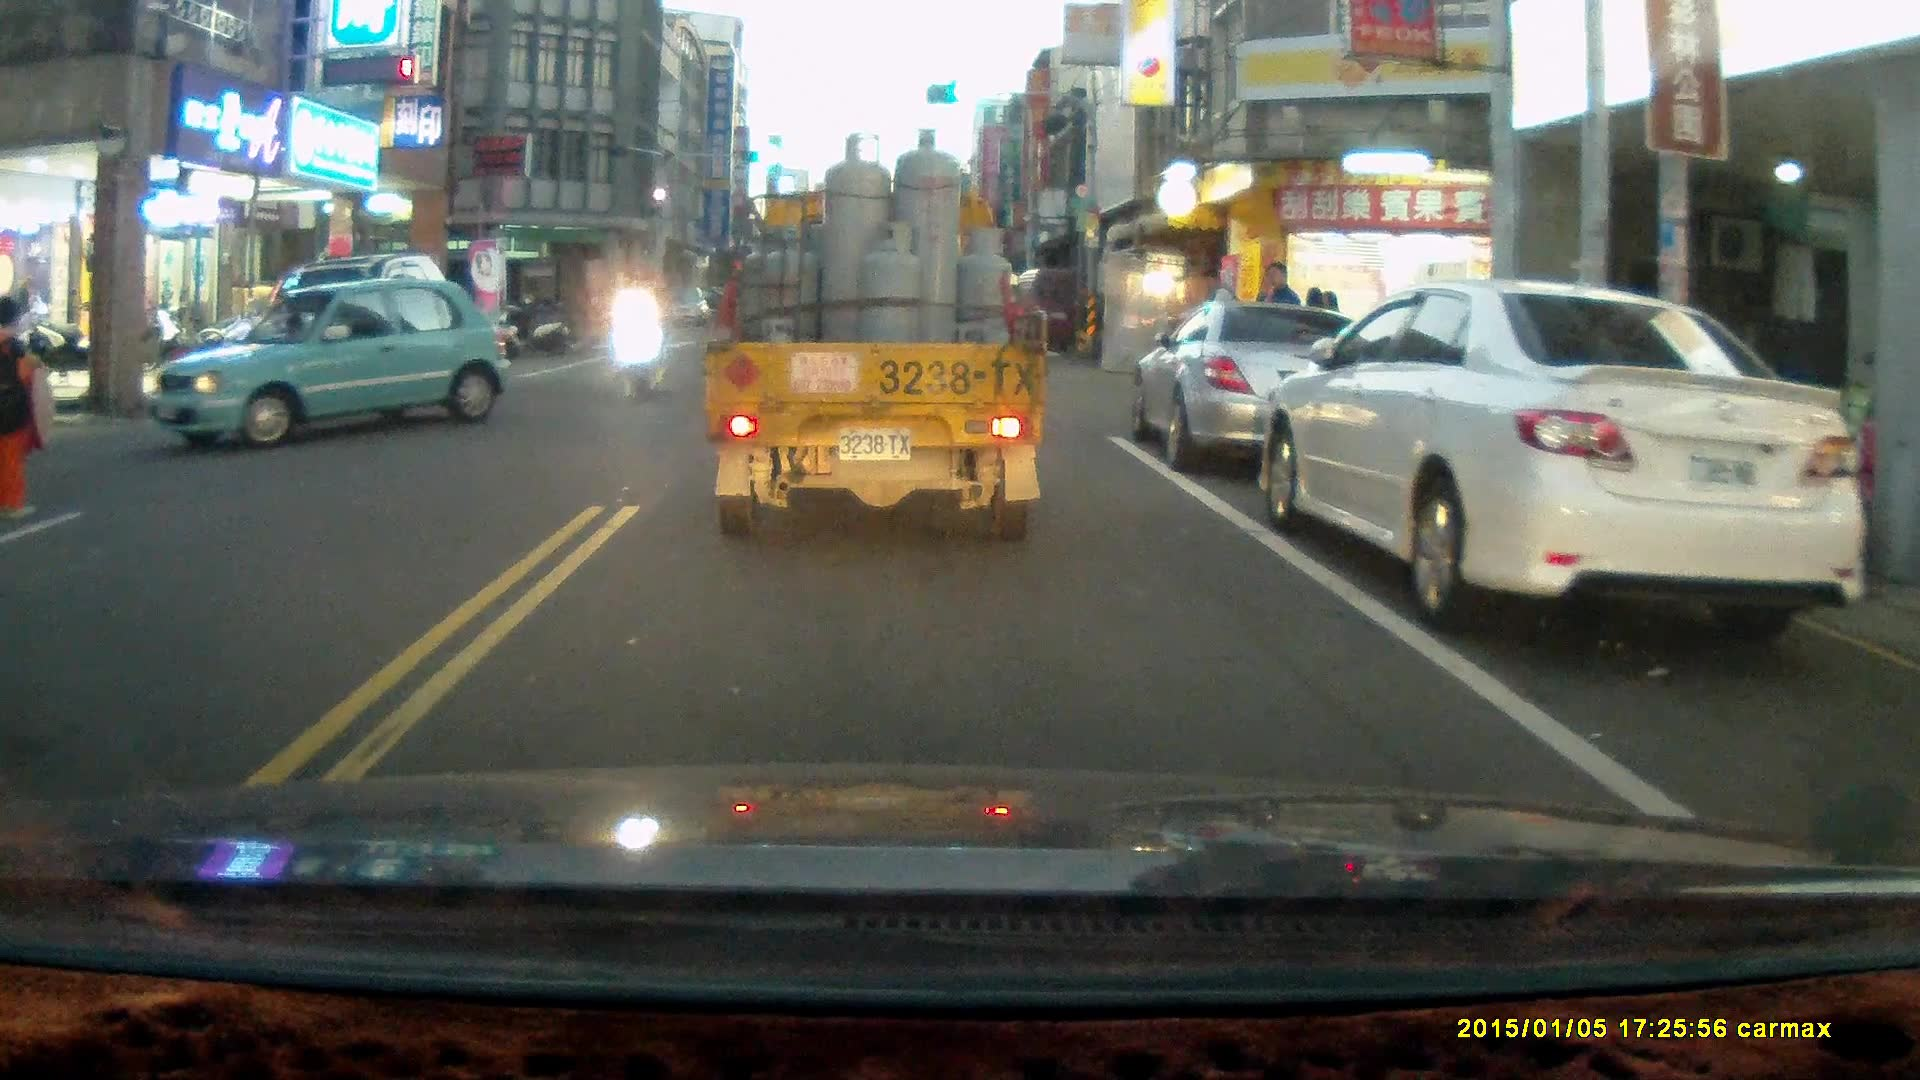pedestrian: (0, 294, 55, 521)
rider: (618, 272, 665, 407)
vehicle: (1258, 282, 1875, 640), (703, 129, 1052, 542), (152, 281, 513, 452), (1136, 299, 1385, 473), (1008, 268, 1098, 358)
